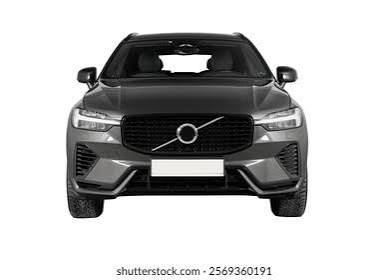car: (54, 30, 314, 209)
